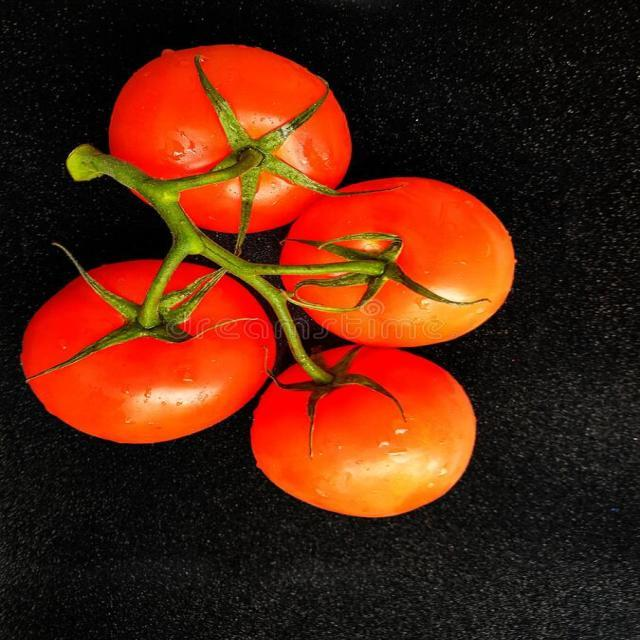sari: (30, 18, 492, 556)
